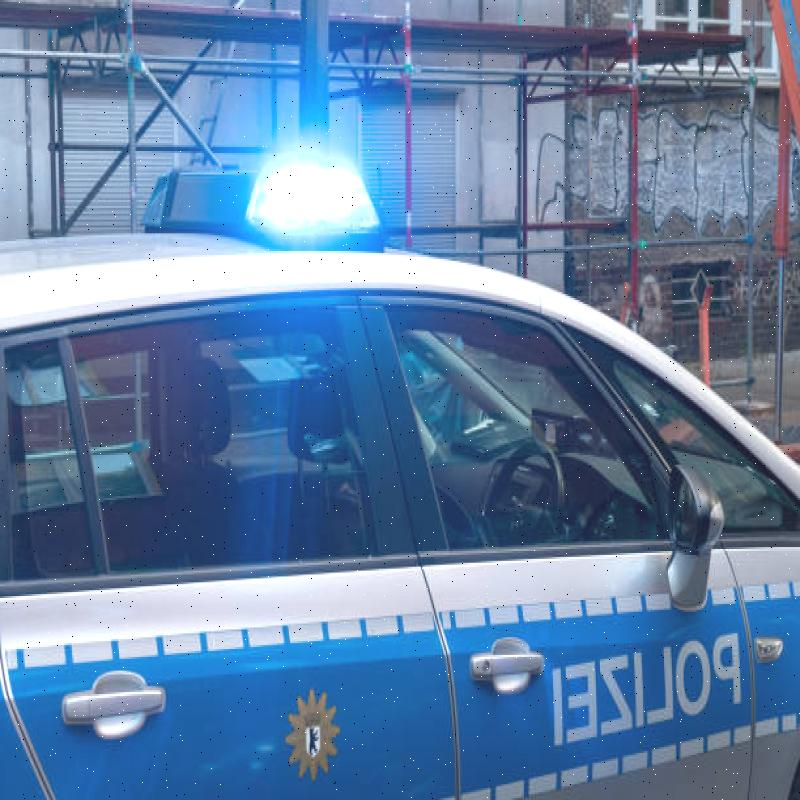AmbulanceSiren: (128, 136, 384, 266)
